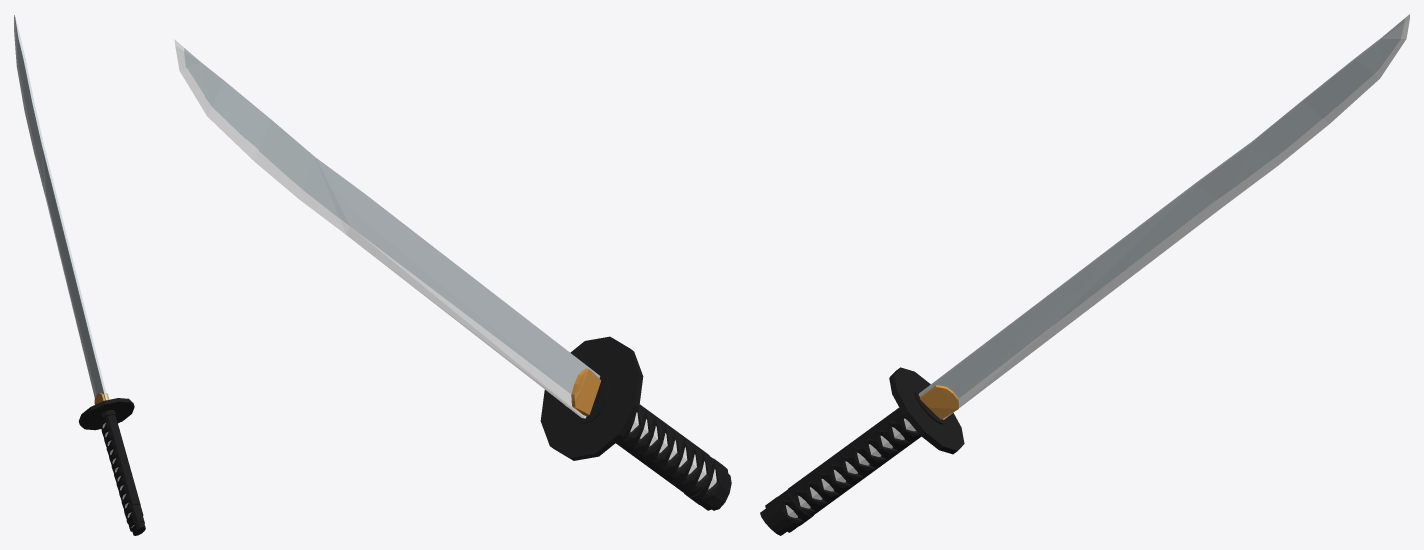
Rendered from Sword.fbx.
3 views of the same model, side by side, from view 1: azimuth 30°, elevation 25°; view 2: azimuth 150°, elevation 25°; view 3: azimuth 270°, elevation 25° (orthographic). The views are drawn at different scales.
Parts seen in each view (by area): view 1: group_1141768986; view 2: group_1141768986; view 3: group_1141768986.
Boxes of the visible parts, x1,y1,x2,y2 form: group_1141768986: (14,15,145,535); group_1141768986: (174,39,731,510); group_1141768986: (760,14,1409,535).
Bounding box in the file's own units: 77.24 × 323 × 329.
